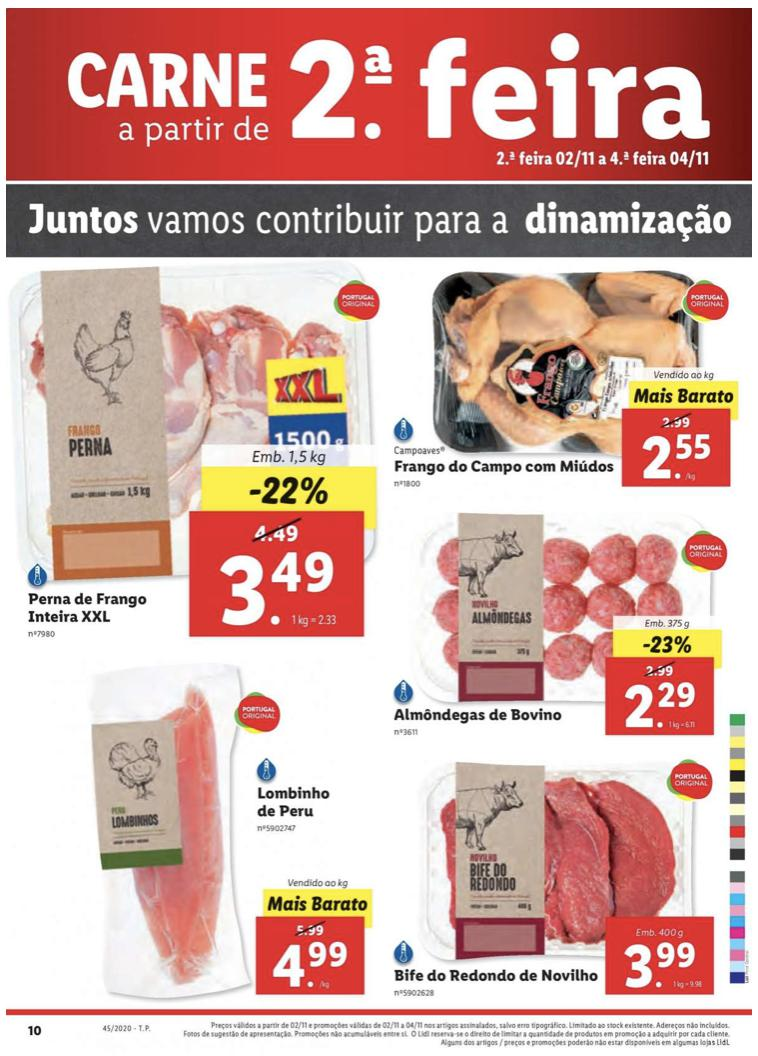name: (394, 963, 605, 986), (27, 590, 152, 627), (393, 457, 617, 477), (393, 703, 567, 727), (254, 784, 333, 821)
price: (217, 550, 343, 637), (621, 940, 712, 992), (275, 938, 358, 994), (622, 678, 700, 734), (642, 429, 716, 487)
product: (4, 261, 387, 646), (42, 655, 389, 1005), (377, 496, 741, 752), (377, 752, 721, 1004), (388, 257, 751, 488)
promotion: (247, 469, 335, 513), (639, 636, 696, 663)
